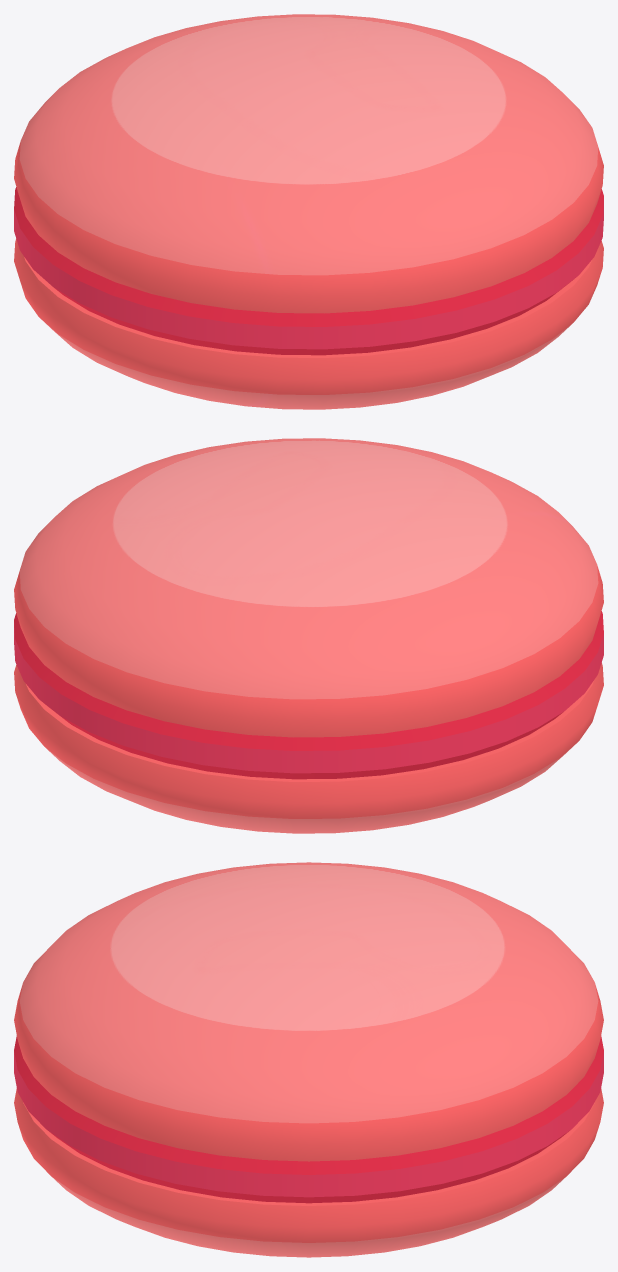
The model's file is Red_Cookie.glb.
3 renders of one model, top to bottom at view 1: azimuth 30°, elevation 25°; view 2: azimuth 150°, elevation 25°; view 3: azimuth 270°, elevation 25°, orthographic.
Visible parts, largest first — view 1: CV6_1_Cookie_V19_0; view 2: CV6_1_Cookie_V19_0; view 3: CV6_1_Cookie_V19_0.
Part boxes in pixels (<box>): CV6_1_Cookie_V19_0: <box>14,14,603,409</box>; CV6_1_Cookie_V19_0: <box>14,438,603,833</box>; CV6_1_Cookie_V19_0: <box>14,862,603,1257</box>.
Size of the model in its own units: 12 by 6.1 by 12.
1 material, 1 textured.
